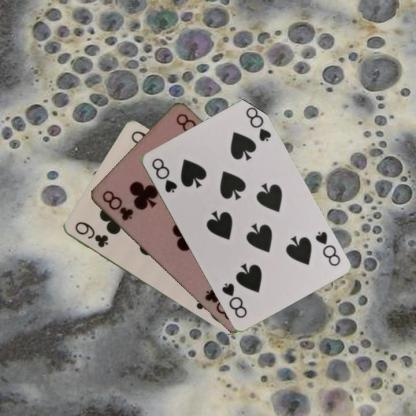8c: (99, 186, 134, 222)
8s: (148, 155, 178, 194), (312, 228, 341, 268)
9c: (72, 218, 109, 249)
